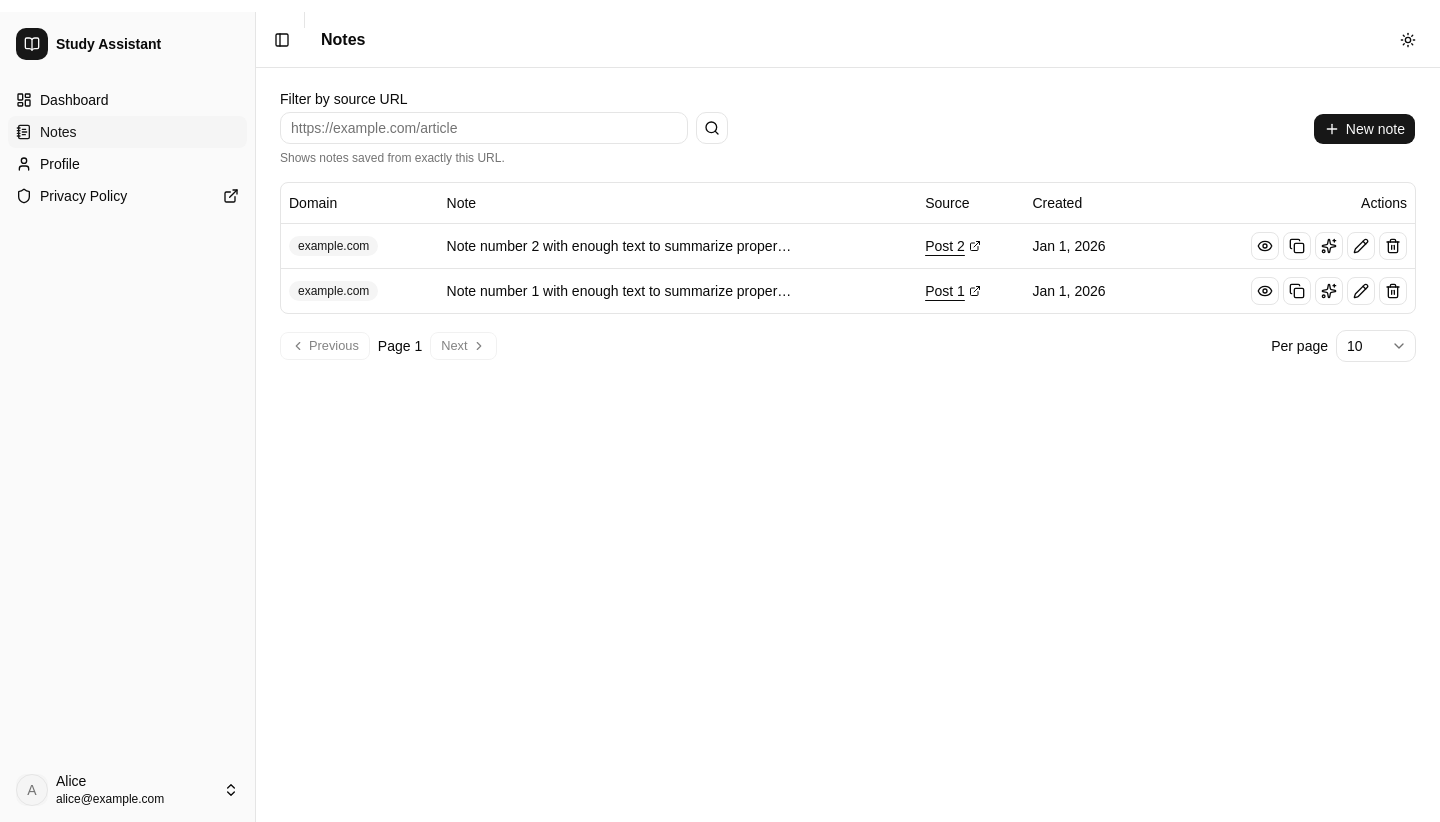
Scenario: notes page › stores a summary and hides the button; reports "unavailable"
Click the button named "Generate summary" in the row of "Post 2": (1329, 246) [1315,232,1343,260]
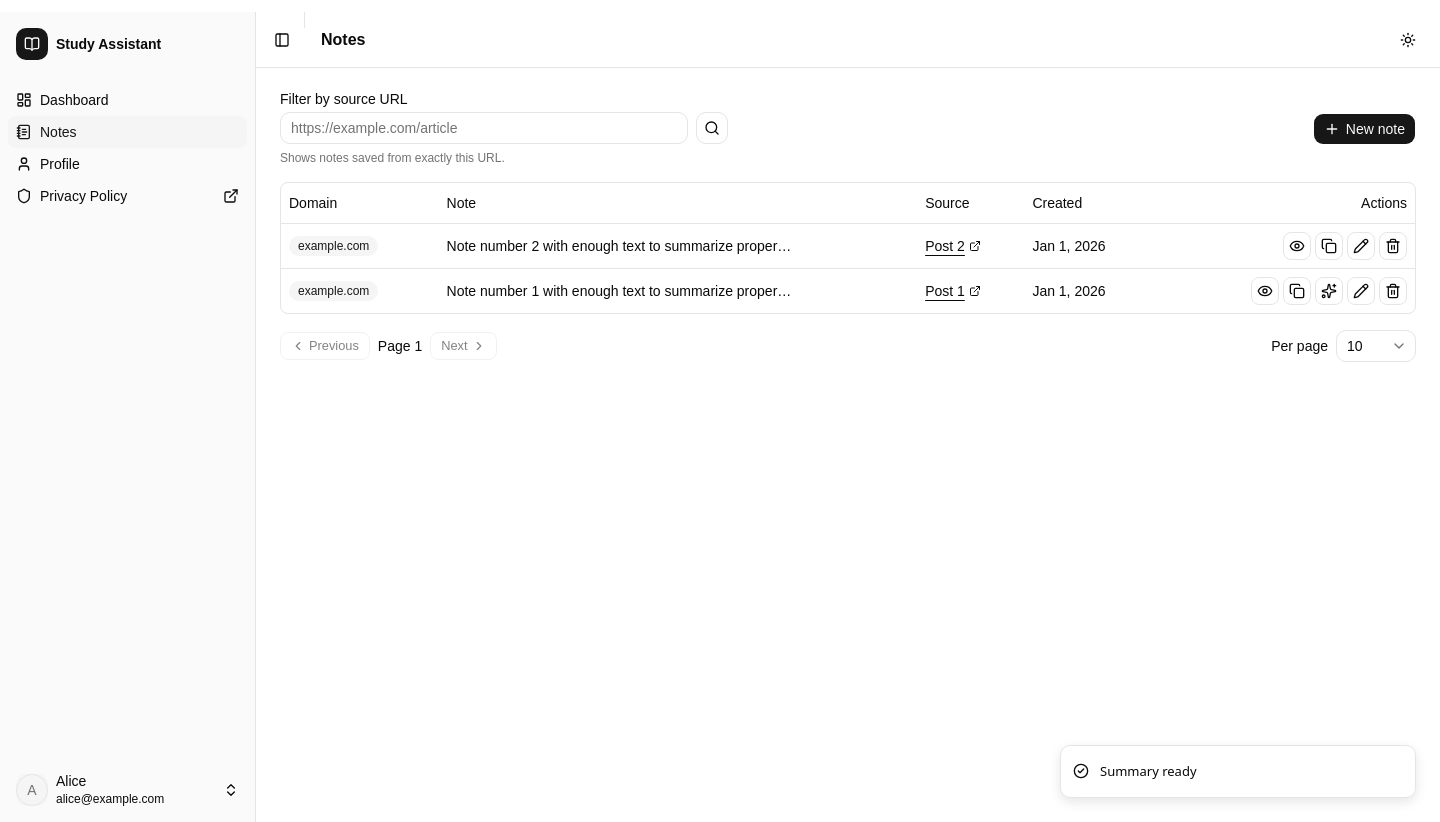
Now the text "Summary ready" is shown, box [1100,762,1196,781]
Click the button named "Generate summary": (1329, 290) [1315,276,1343,304]
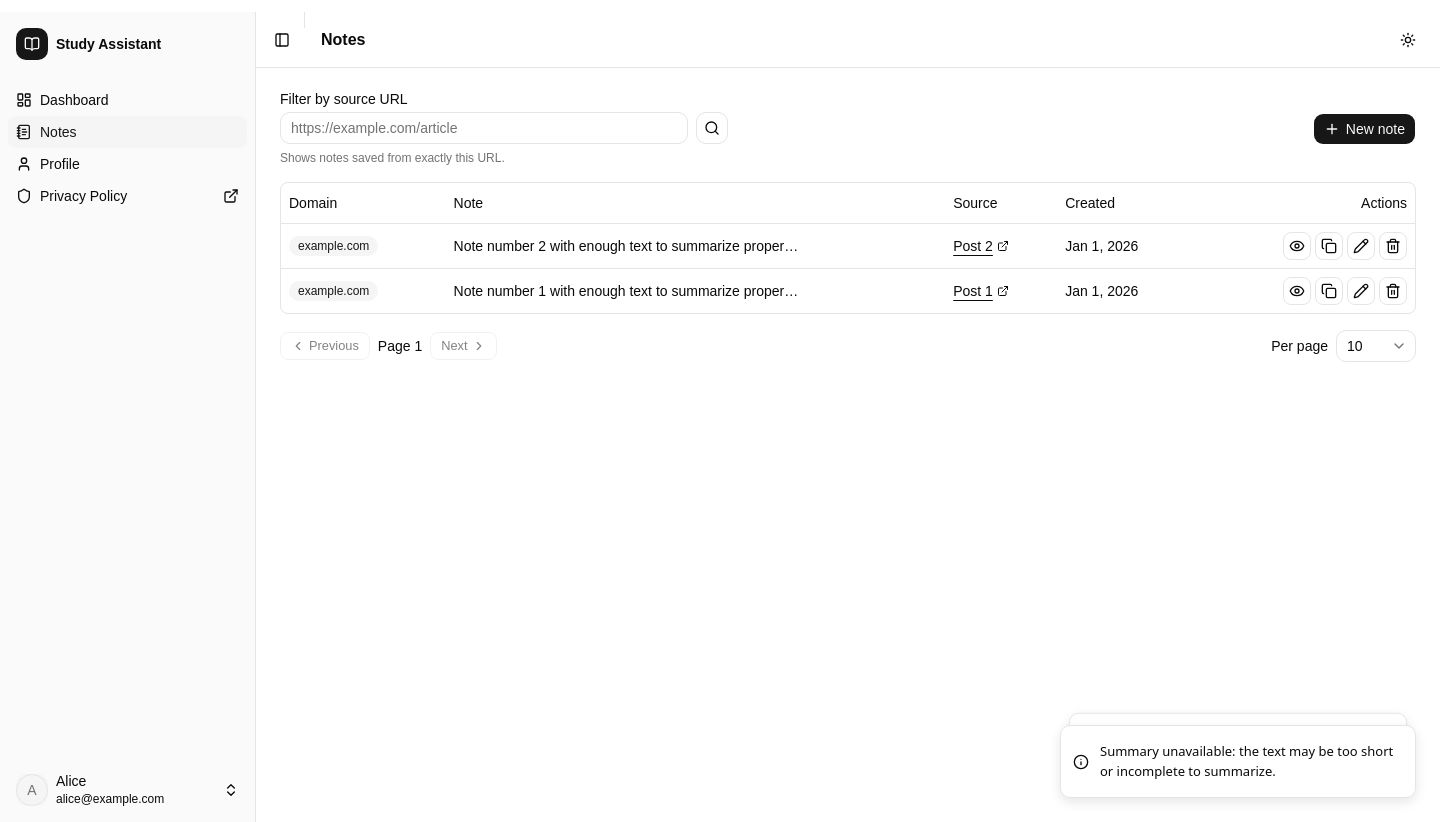
Now the text "Summary unavailable" is shown, box [1100,742,1393,780]
